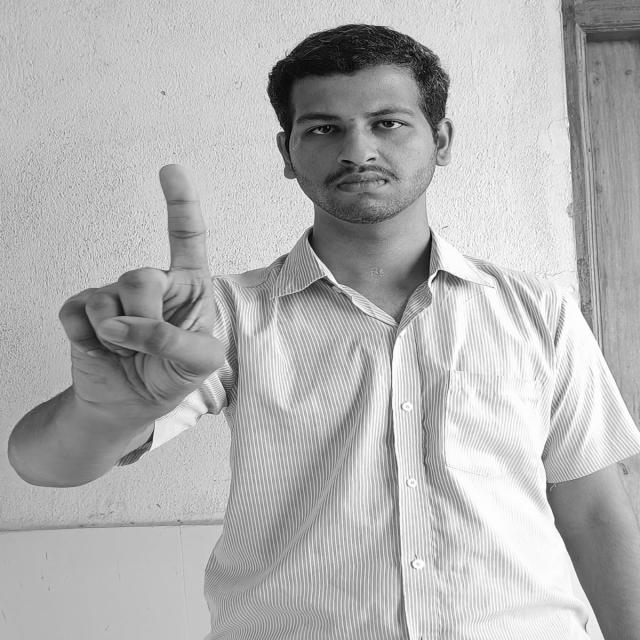Question: (46, 161, 222, 411)
